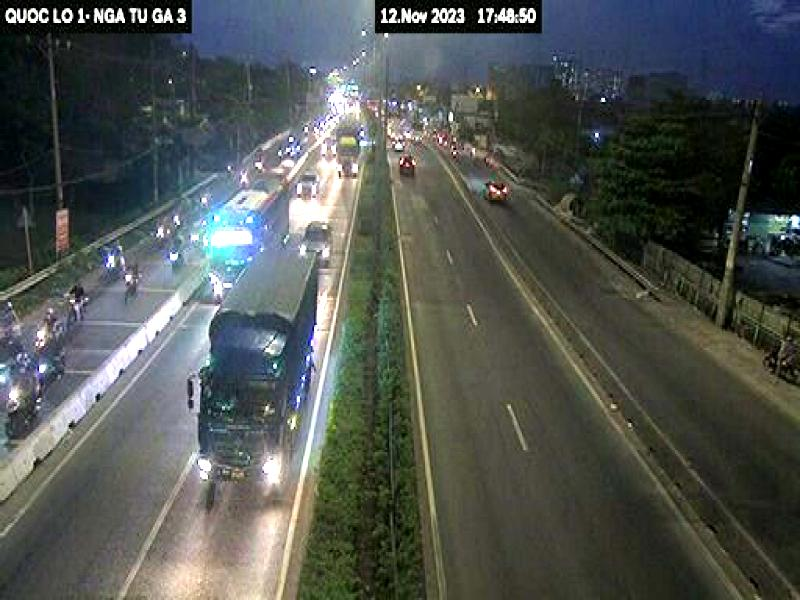bus: (187, 245, 320, 507), (202, 168, 291, 312)
